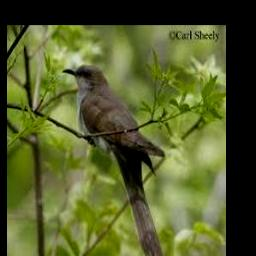Cuckoo: (63, 65, 165, 256)
